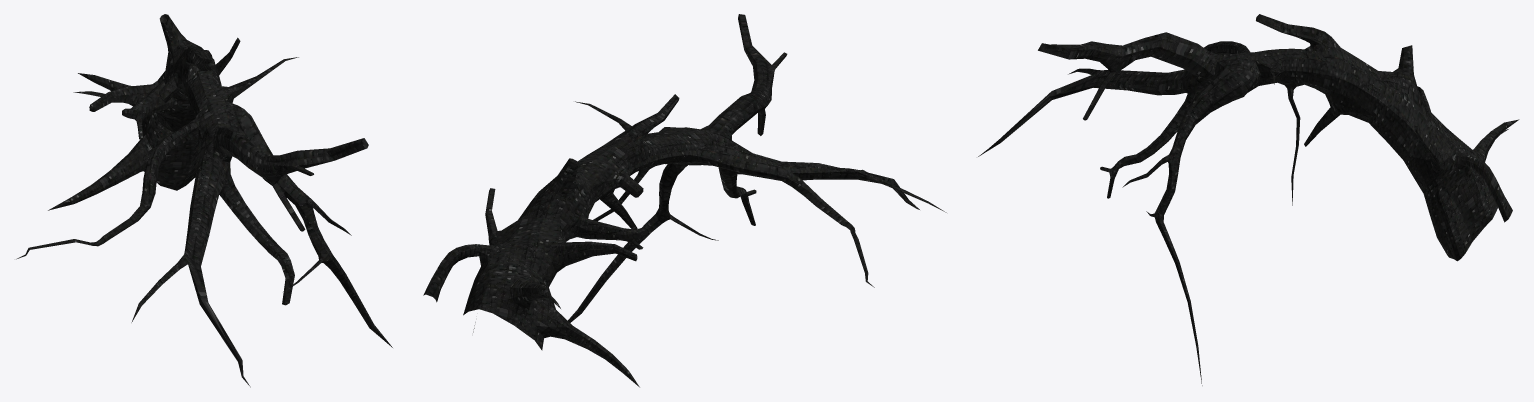
The model's file is 1_BURNT_01_17-transformed.glb.
3 renders of one model, left to right at view 1: azimuth 30°, elevation 25°; view 2: azimuth 150°, elevation 25°; view 3: azimuth 270°, elevation 25°, orthographic.
Parts seen in each view (by area): view 1: default; view 2: default; view 3: default.
Boxes of the visible parts, x1=… form: default: x1=16, y1=14, x2=392, y2=387; default: x1=423, y1=14, x2=946, y2=387; default: x1=978, y1=14, x2=1519, y2=385.
Bounding box in the file's own units: 12.01 × 9.91 × 16.24.
Materials: 1 (1 with a texture image).
